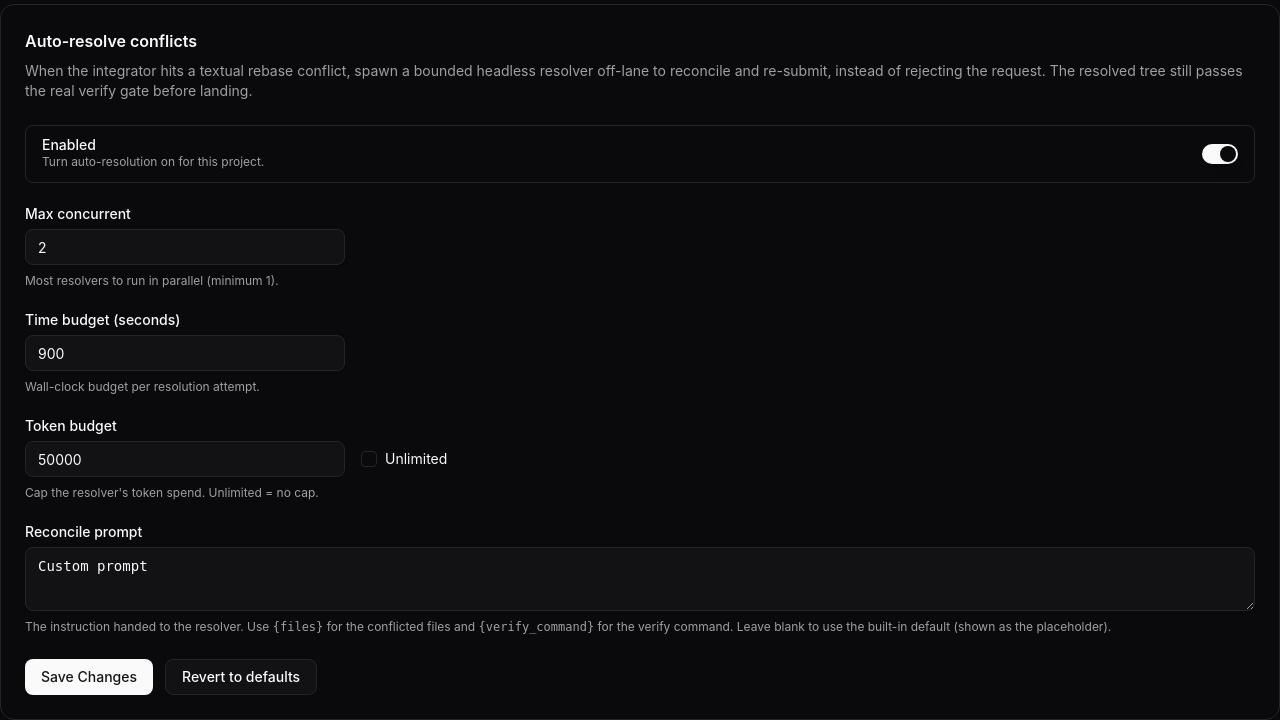
it: ConflictResolutionPage — revert to defaults › resets the config fields to defaults but keeps enabled unchanged
(page scrolled)
Click the button "Revert to defaults" at (241, 677), box [165, 659, 317, 695]
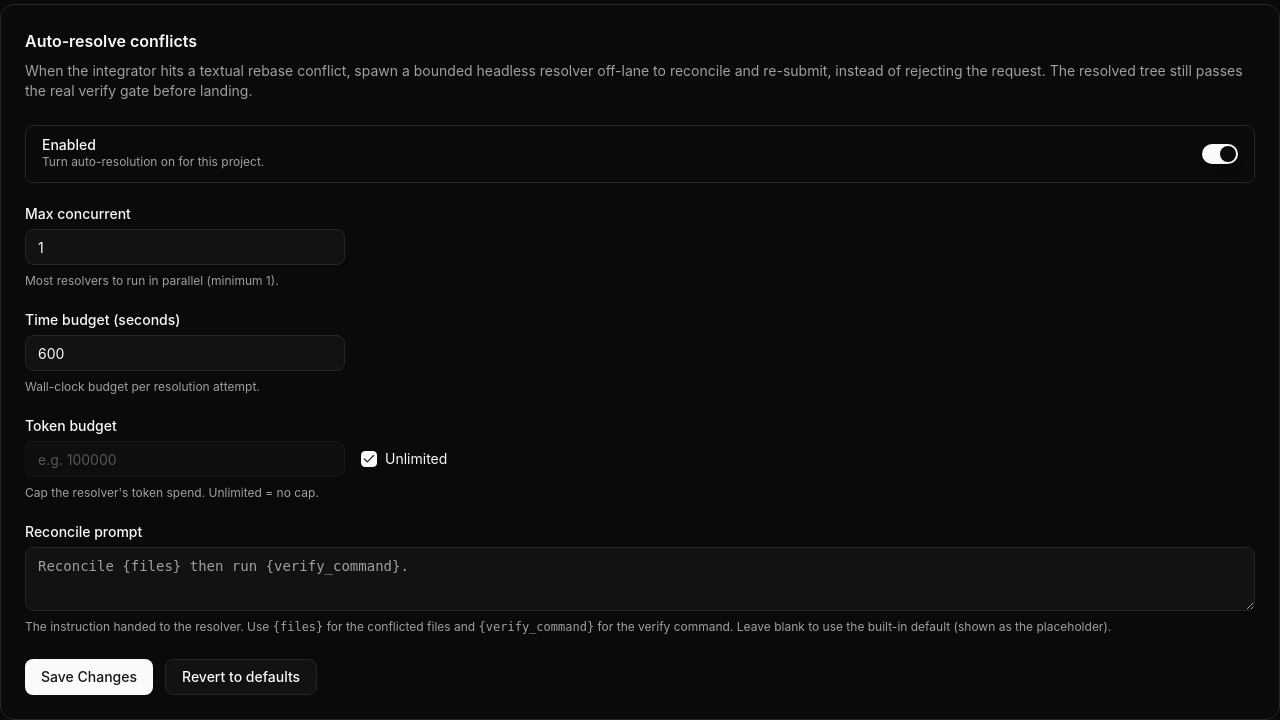
Result: the number field labelled "Max concurrent" holds "1" at [25, 229, 345, 265]
Result: the number field labelled "Time budget (seconds)" holds "600" at [25, 335, 345, 371]
Result: the text box labelled "Reconcile prompt" is empty at [25, 547, 1255, 611]
